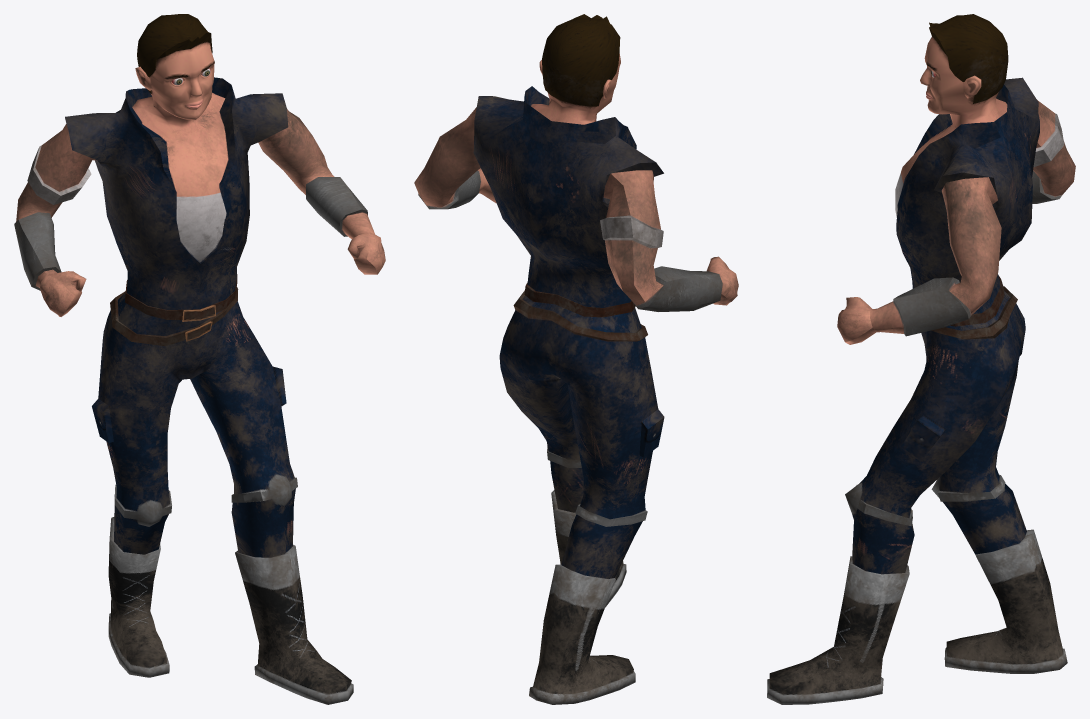
The model's file is Anim_ataque_d1_jugador.0029.obj.
The picture shows the model from 3 angles, left to right: view 1: azimuth 30°, elevation 25°; view 2: azimuth 150°, elevation 25°; view 3: azimuth 270°, elevation 25°; orthographic projection. The views are drawn at different scales.
Parts seen in each view (by area): view 1: polySurface1; view 2: polySurface1; view 3: polySurface1.
Part boxes in pixels (x1=…): polySurface1: x1=14, y1=14, x2=385, y2=704; polySurface1: x1=414, y1=14, x2=738, y2=704; polySurface1: x1=767, y1=14, x2=1075, y2=704.
Bounding box in the file's own units: 4.67 × 9.45 × 4.03.
